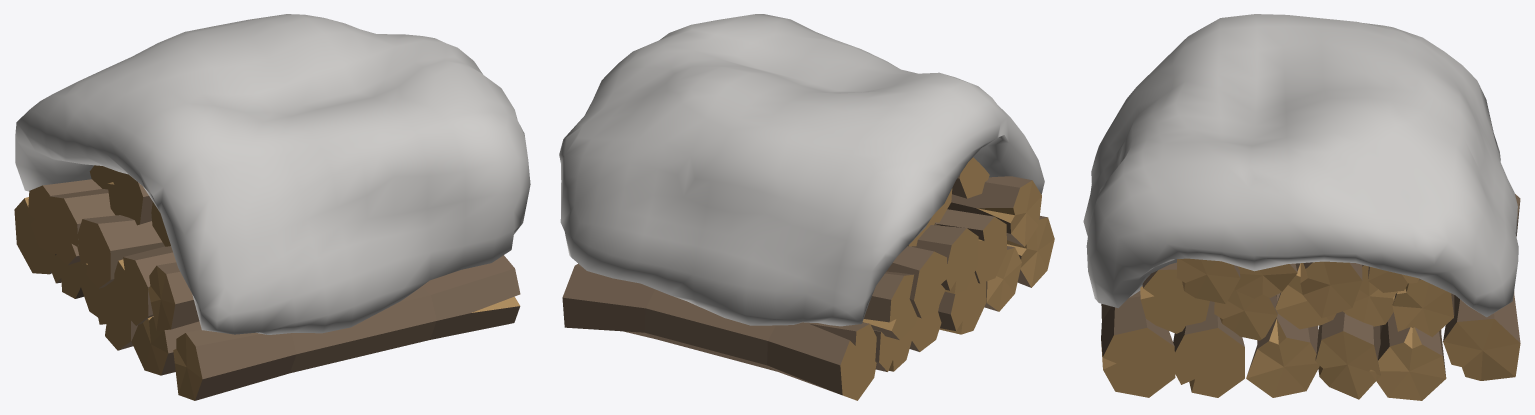
File: Firewood_Stack_w_Snow.fbx
3 renders of one model, left to right at view 1: azimuth 30°, elevation 25°; view 2: azimuth 150°, elevation 25°; view 3: azimuth 270°, elevation 25°, orthographic. The views are drawn at different scales.
Parts seen in each view (by area): view 1: Firewood_Stack_w_Snow; view 2: Firewood_Stack_w_Snow; view 3: Firewood_Stack_w_Snow.
Part boxes in pixels (x1,y1,x2,y2): Firewood_Stack_w_Snow: [14, 14, 530, 400]; Firewood_Stack_w_Snow: [559, 14, 1054, 400]; Firewood_Stack_w_Snow: [1083, 14, 1520, 400].
Bounding box in the file's own units: 275 × 164 × 262.
